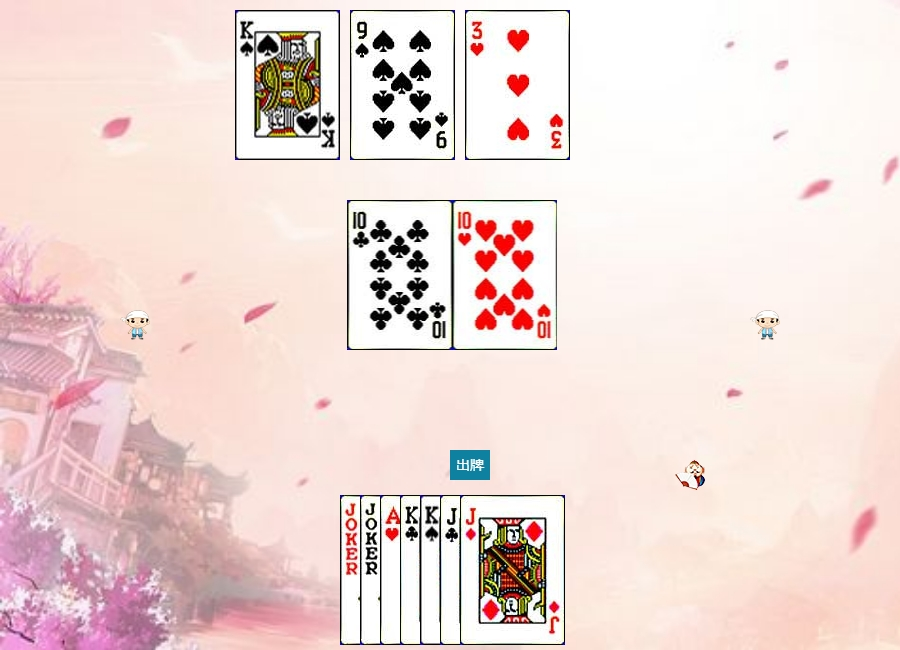10~2: (348, 200, 453, 350)
10~3: (453, 200, 558, 350)
11~1: (460, 495, 565, 645)
11~2: (440, 495, 545, 645)
13~2: (400, 495, 505, 645)
13~4: (235, 10, 340, 160), (420, 495, 525, 645)
14~3: (380, 495, 485, 645)
17~3: (360, 495, 465, 645)
18~4: (340, 495, 445, 645)
3~3: (465, 10, 570, 160)
9~4: (350, 10, 455, 160)
